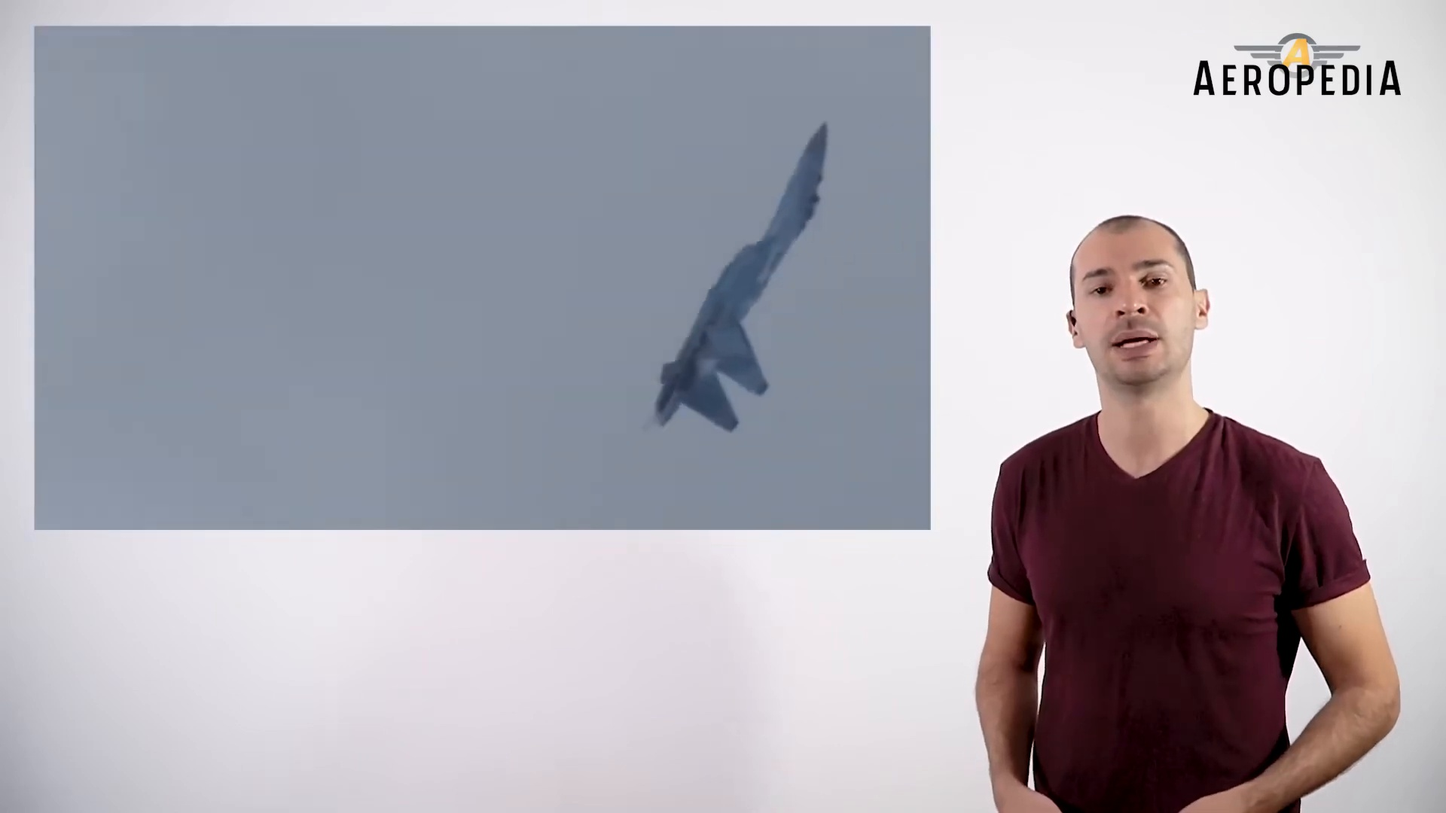Su35: (652, 120, 826, 438)
